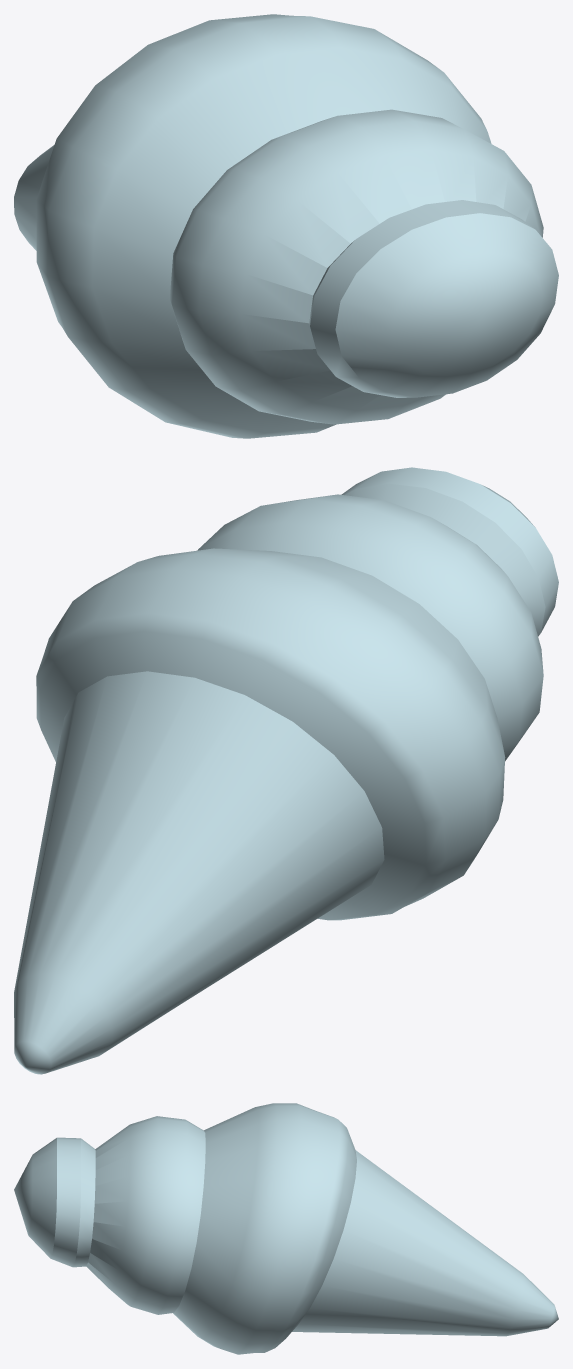
Rendered from SM_Seashell.fbx.
The picture shows the model from 3 angles, top to bottom: view 1: azimuth 30°, elevation 25°; view 2: azimuth 150°, elevation 25°; view 3: azimuth 270°, elevation 25°; orthographic projection. The views are drawn at different scales.
Parts seen in each view (by area): view 1: SM_SeaShell; view 2: SM_SeaShell; view 3: SM_SeaShell.
Boxes of the visible parts, x1,y1,x2,y2 form: SM_SeaShell: [14, 14, 558, 438]; SM_SeaShell: [14, 467, 558, 1074]; SM_SeaShell: [14, 1103, 558, 1354].
Size of the model in its own units: 34.74 by 27.54 by 62.49.
